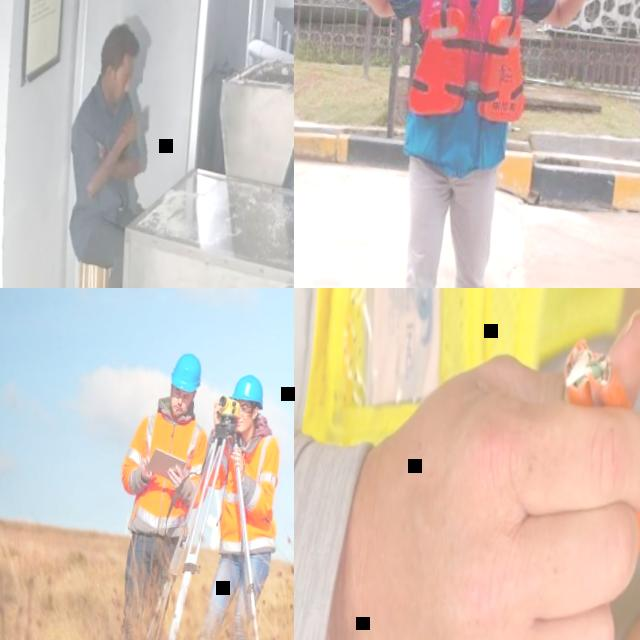Hardhat: (168, 352, 205, 394), (227, 373, 266, 411)
NO-Hardhat: (101, 26, 142, 68)
NO-Mask: (107, 84, 125, 106), (234, 416, 252, 436), (169, 404, 187, 420)
NO-Safety Vest: (65, 93, 146, 218)
Person: (294, 288, 640, 640), (294, 0, 623, 288), (96, 348, 224, 640), (34, 21, 173, 288), (178, 369, 294, 640)
Safety Vest: (294, 288, 638, 483), (399, 0, 546, 133), (117, 409, 213, 533), (207, 428, 291, 561)
